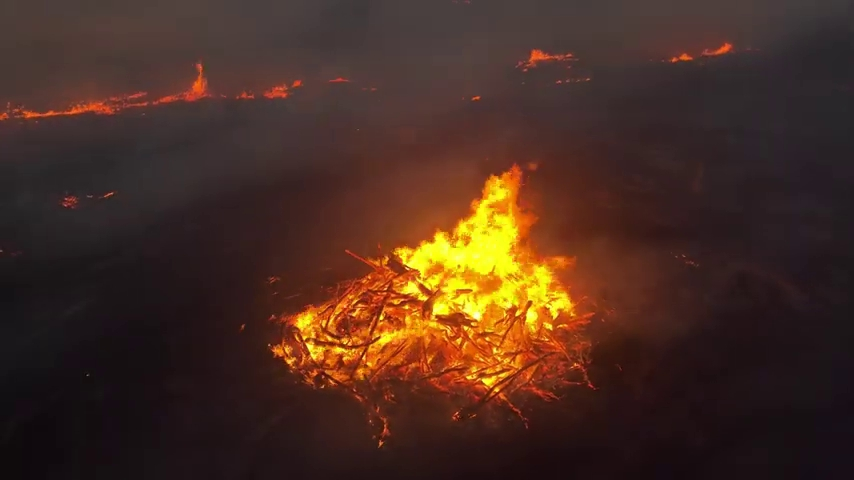forest_fire: (271, 165, 589, 444), (0, 62, 210, 120), (516, 49, 575, 71), (234, 80, 302, 98), (700, 43, 732, 57), (667, 53, 693, 61)
